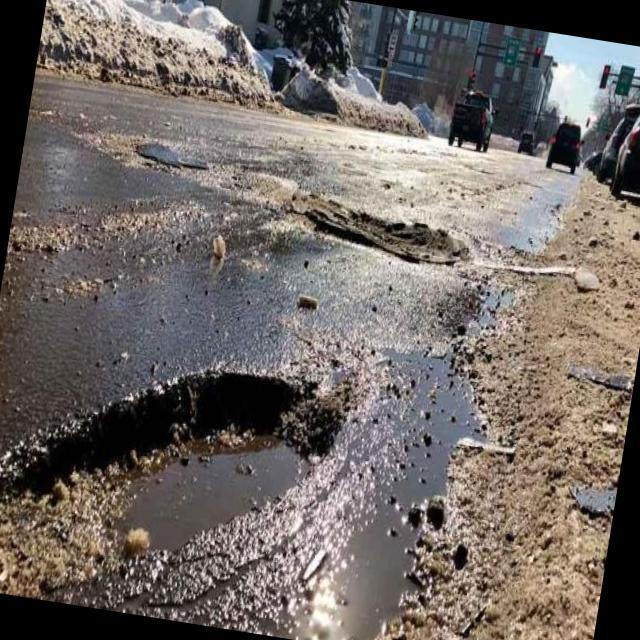Pothole: (0, 371, 354, 597)
